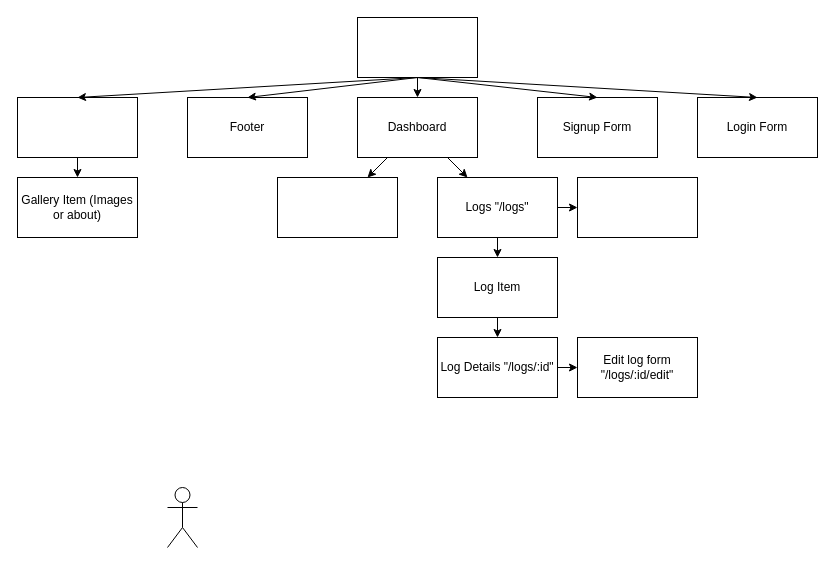
This 835x586 diagram has some shape labels left out. Each missing label, with the box of its shape:
Actor: (166, 486, 198, 548)
Add log form "/logs": (576, 176, 698, 238)
APP "/": (356, 16, 478, 78)
Gallery: (16, 96, 138, 158)
NavBar (chanegs on login): (276, 176, 398, 238)
